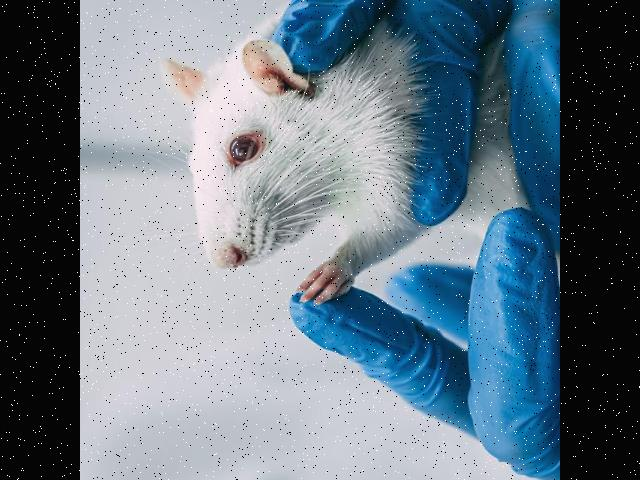Tikus: (162, 9, 494, 304)
